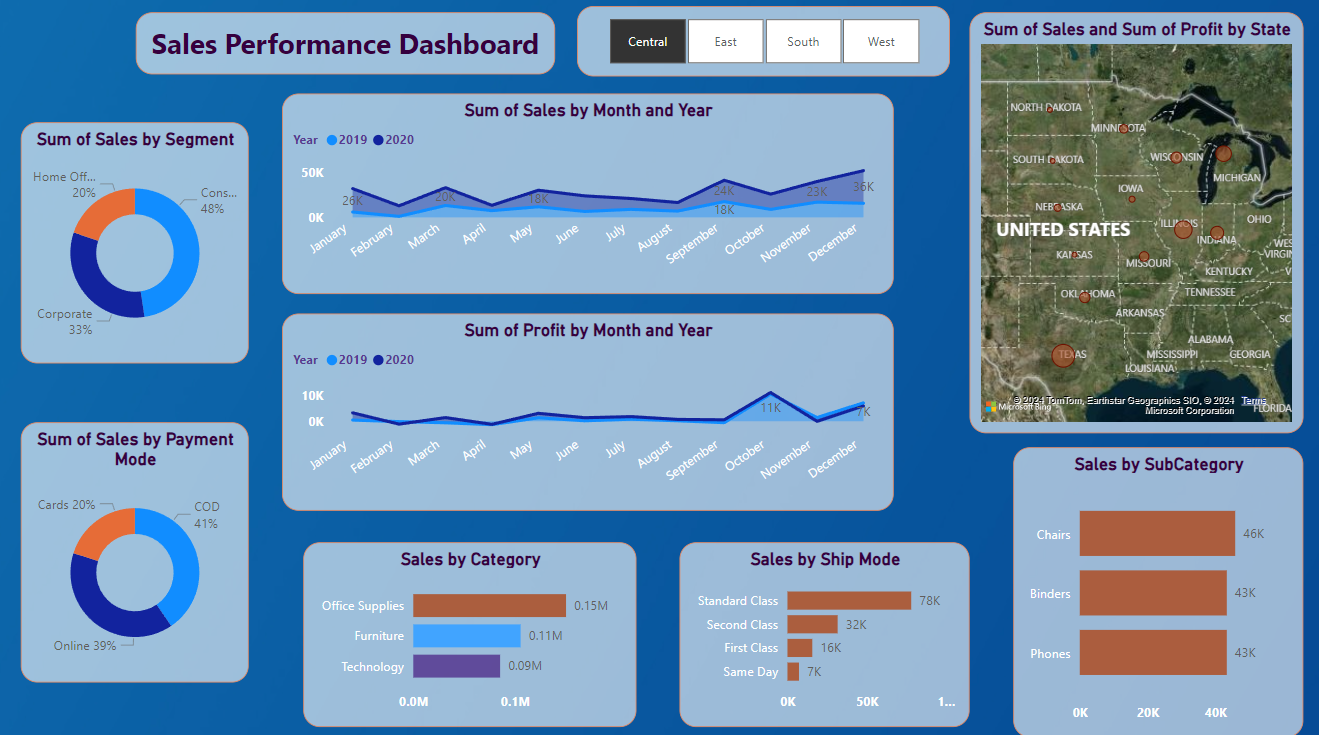

This screenshot's page, from the dashboard's own definition file:
{"tool":"powerbi","page":{"name":"Page 1","canvas":[1280,720],"ordinal":0},"visuals":[{"type":"clusteredBarChart","title":" Sales by Category","fields":{"Category":["SuperStore_Sales_Dataset.Category"],"Y":["Sum(SuperStore_Sales_Dataset.Sales)"]},"box":[295,531.7,321.7,178.3],"z":0},{"type":"clusteredBarChart","title":" Sales by SubCategory","fields":{"Category":["SuperStore_Sales_Dataset.Sub-Category"],"Y":["Sum(SuperStore_Sales_Dataset.Sales)"]},"box":[981.1,440,280,280],"z":1000},{"type":"clusteredBarChart","title":" Sales by Ship Mode","fields":{"Category":["SuperStore_Sales_Dataset.Ship Mode","SuperStore_Sales_Dataset.Sub-Category"],"Y":["Sum(SuperStore_Sales_Dataset.Sales)"]},"box":[658.3,531.7,280,178.3],"z":2000},{"type":"stackedAreaChart","fields":{"Y":["Sum(SuperStore_Sales_Dataset.Sales)"],"Category":["SuperStore_Sales_Dataset.Order Date.Variation.Date Hierarchy.Month","SuperStore_Sales_Dataset.Order Date.Variation.Date Hierarchy.Day"],"Series":["SuperStore_Sales_Dataset.Order Date.Variation.Date Hierarchy.Year"]},"box":[275,98.3,590,193.3],"z":3000},{"type":"stackedAreaChart","fields":{"Category":["SuperStore_Sales_Dataset.Order Date.Variation.Date Hierarchy.Month","SuperStore_Sales_Dataset.Order Date.Variation.Date Hierarchy.Day"],"Series":["SuperStore_Sales_Dataset.Order Date.Variation.Date Hierarchy.Year"],"Y":["Sum(SuperStore_Sales_Dataset.Profit)"]},"box":[275,311.7,590,190],"z":4000},{"type":"map","fields":{"Category":["SuperStore_Sales_Dataset.State"],"Size":["Sum(SuperStore_Sales_Dataset.Sales)"]},"box":[938.8,20,322.5,406.2],"z":5000},{"type":"donutChart","fields":{"Category":["SuperStore_Sales_Dataset.Segment"],"Y":["Sum(SuperStore_Sales_Dataset.Sales)"]},"box":[22.9,127.1,220,232.9],"z":5001},{"type":"donutChart","fields":{"Category":["SuperStore_Sales_Dataset.Payment Mode"],"Y":["Sum(SuperStore_Sales_Dataset.Sales)"]},"box":[22.9,415.7,220,251.4],"z":5002},{"type":"slicer","fields":{"Values":["SuperStore_Sales_Dataset.Region"]},"box":[560,15,360,68.3],"z":5003},{"type":"textbox","box":[133.3,20,405,60],"z":5004}]}

Visuals, with their boxes in screenshot pixels (x1, y1, x2, y2), scaled from the page's 1280x720 canvas onto the 1319x735 screenshot:
" Sales by Category" clusteredBarChart: 304/543/635/725
" Sales by SubCategory" clusteredBarChart: 1011/449/1300/734
" Sales by Ship Mode" clusteredBarChart: 678/543/967/725
stackedAreaChart - Sum(SuperStore_Sales_Dataset.Sales) x SuperStore_Sales_Dataset.Order Date.Variation.Date Hierarchy.Month: 283/100/891/298
stackedAreaChart - SuperStore_Sales_Dataset.Order Date.Variation.Date Hierarchy.Month x SuperStore_Sales_Dataset.Order Date.Variation.Date Hierarchy.Day: 283/318/891/512
map - SuperStore_Sales_Dataset.State x Sum(SuperStore_Sales_Dataset.Sales): 967/20/1300/435
donutChart - SuperStore_Sales_Dataset.Segment x Sum(SuperStore_Sales_Dataset.Sales): 24/130/250/368
donutChart - SuperStore_Sales_Dataset.Payment Mode x Sum(SuperStore_Sales_Dataset.Sales): 24/424/250/681
slicer - SuperStore_Sales_Dataset.Region: 577/15/948/85
textbox: 137/20/555/82
